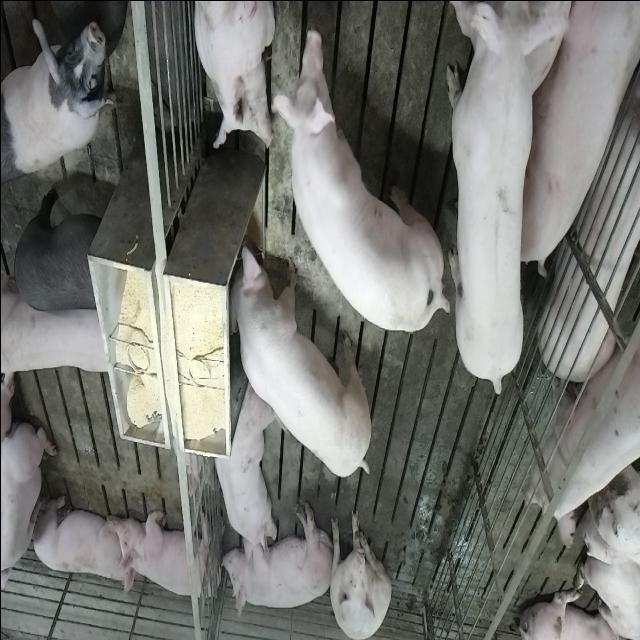Feeding: (220, 236, 368, 478)
Lateral_lying: (541, 32, 640, 378), (218, 498, 334, 620)
Sitting: (327, 505, 390, 639)
Standing: (266, 16, 448, 336), (442, 1, 544, 392), (526, 299, 640, 543), (2, 15, 114, 181), (9, 176, 109, 316), (3, 272, 117, 370)
Sternal_lying: (192, 0, 276, 150), (209, 381, 273, 565), (2, 410, 56, 604), (29, 491, 131, 589), (118, 506, 216, 604)
